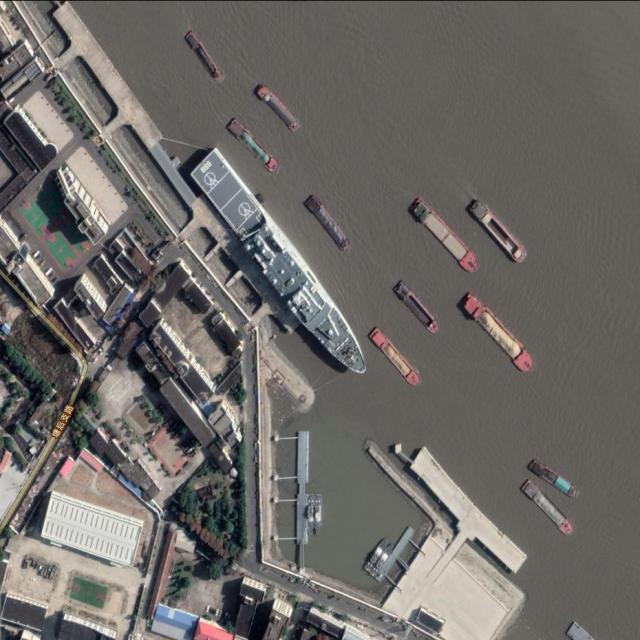Cargo: (458, 289, 539, 376), (407, 195, 484, 277), (467, 197, 531, 266), (298, 192, 359, 255), (365, 326, 425, 389), (253, 81, 312, 142), (520, 478, 577, 540), (225, 116, 283, 176), (391, 281, 442, 337), (525, 456, 583, 502), (182, 28, 227, 84)
Landing: (180, 145, 380, 372)
Other Warship: (363, 537, 389, 573), (370, 542, 395, 577), (315, 495, 323, 536), (307, 494, 314, 535)
